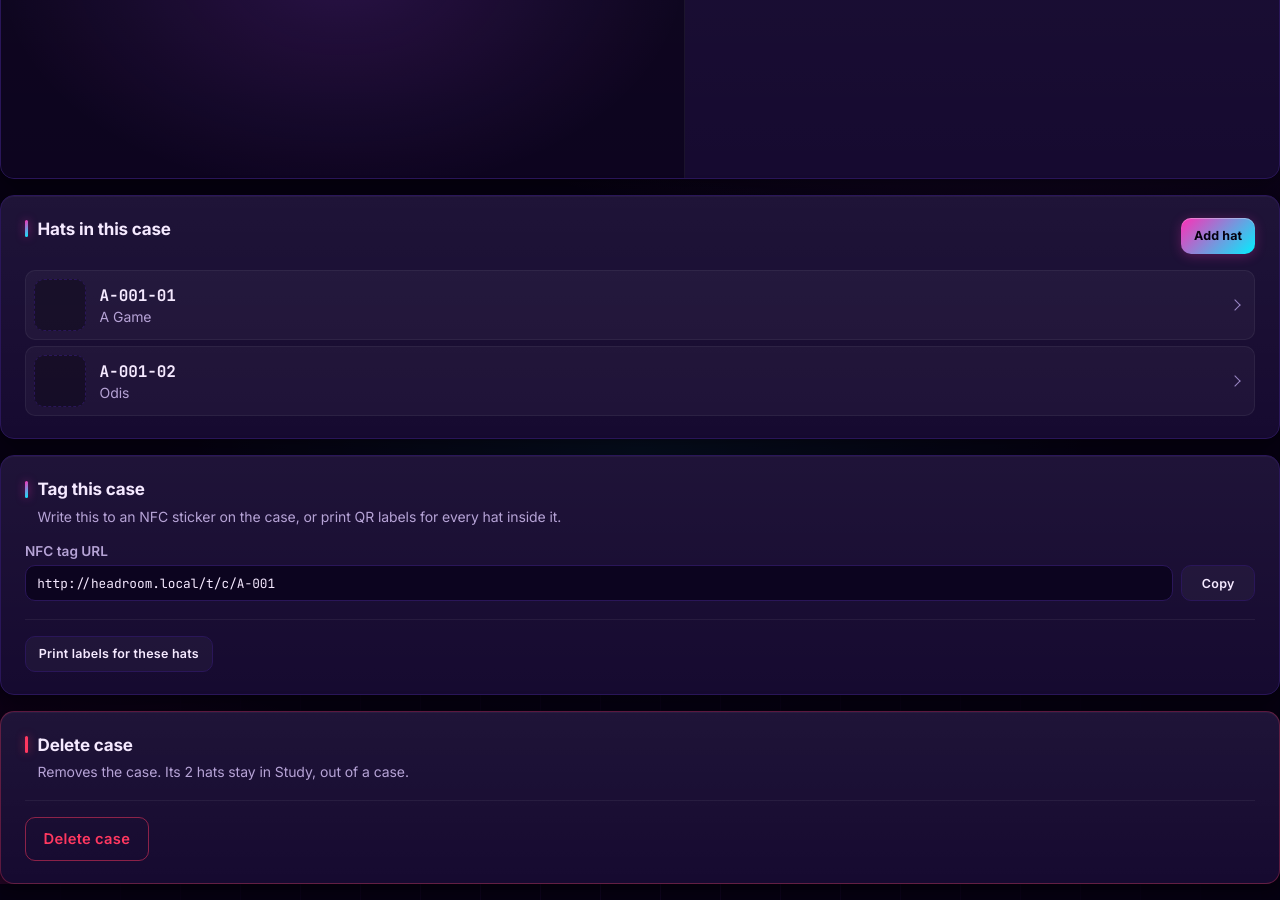
CaseDetailPage — delete › asks in the app first, with the TRUE consequence — and Cancel deletes nothing
(page scrolled)
Click the button "Delete case" at (87, 839), box [25,817,149,861]
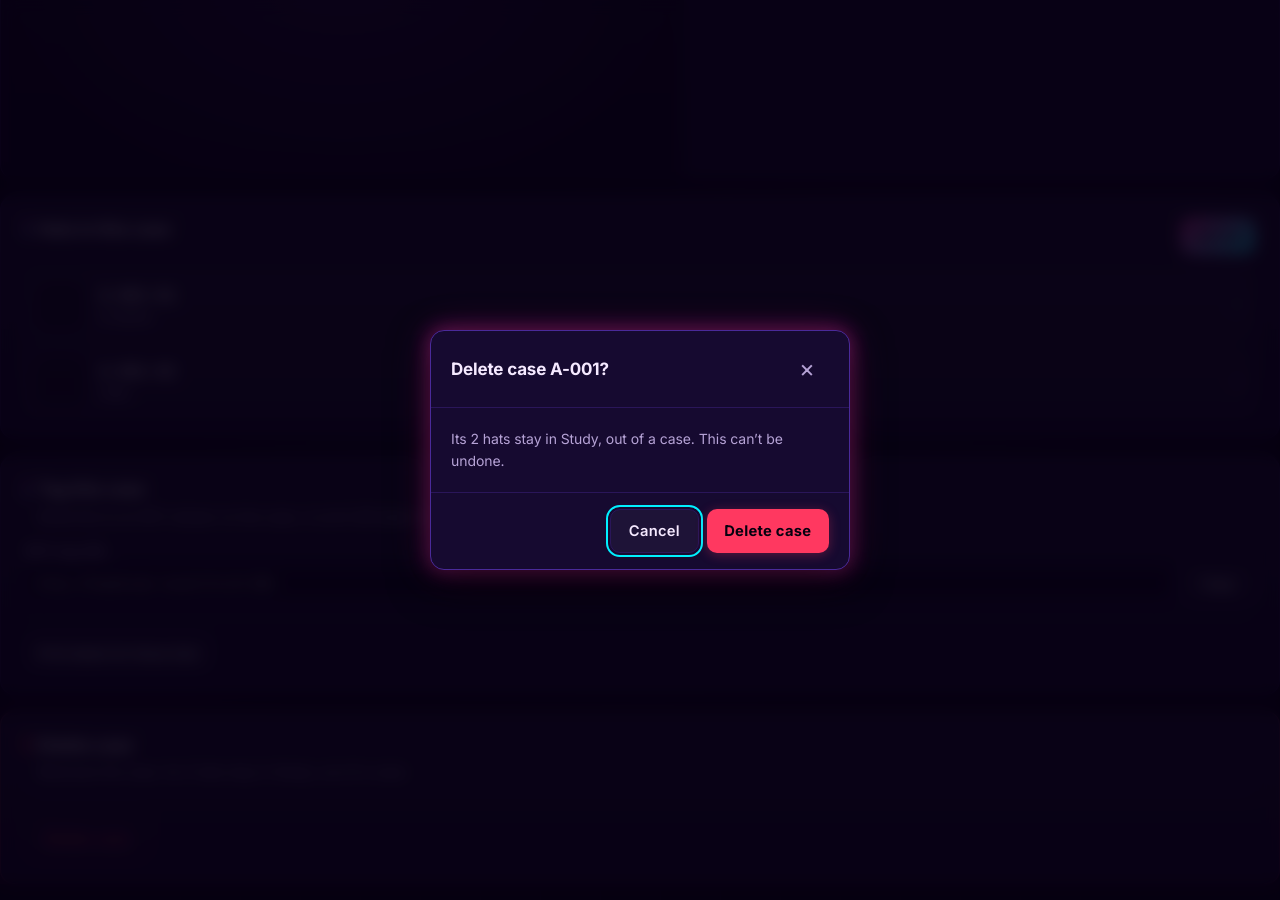
Result: the heading "Delete case A-001?" is shown at [451,359,609,379]
Result: the text "Its 2 hats stay in Study, out of a case. This can’t be undone." is shown at [451,428,829,472]
Click the button "Cancel" at (654, 531), box [610,509,699,553]
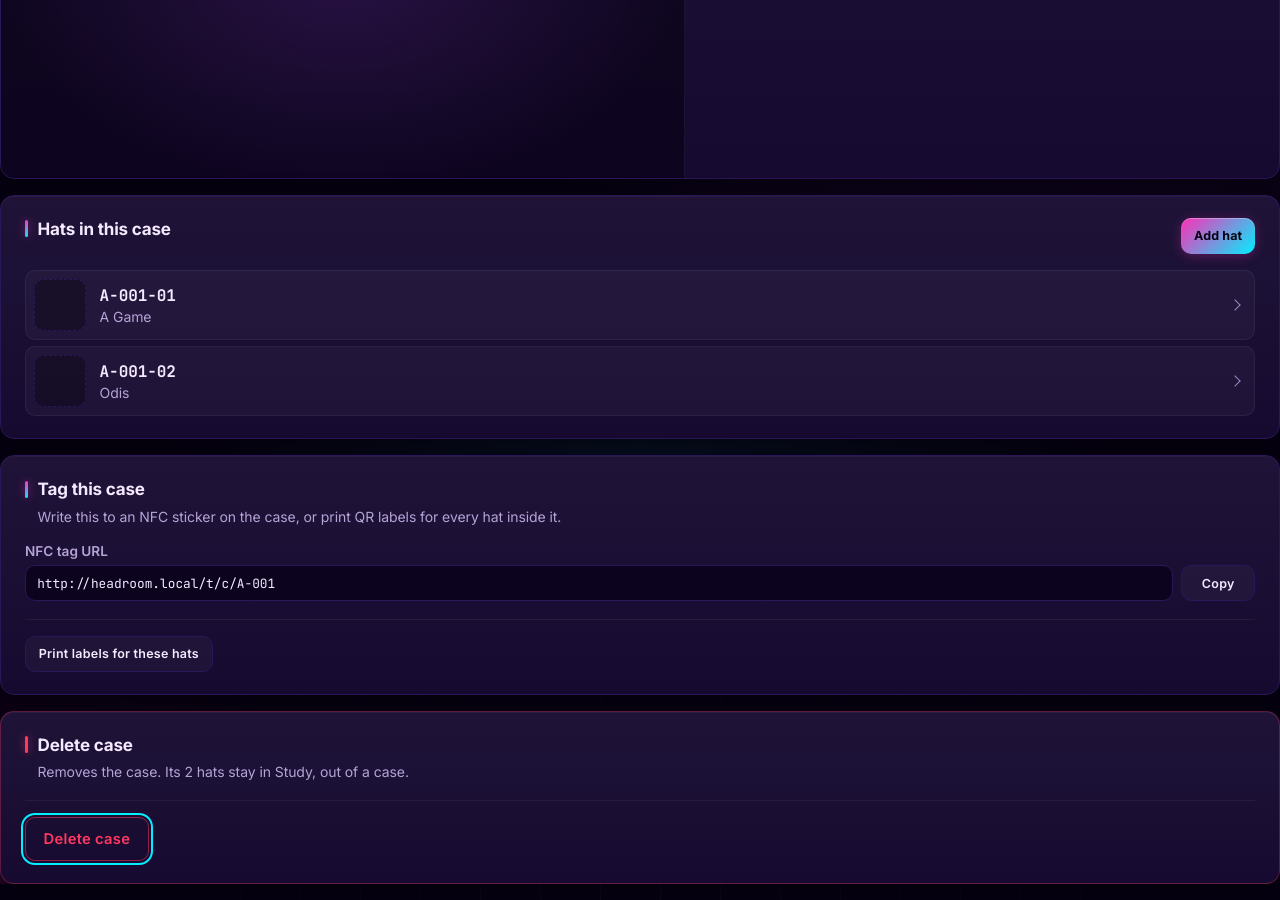
Result: the dialog is gone
